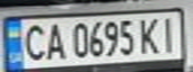0: (66, 19, 90, 60)
5: (118, 16, 139, 56)
6: (87, 18, 106, 57)
9: (103, 18, 121, 57)
A: (42, 20, 69, 61)
C: (18, 20, 48, 62)
I: (157, 14, 181, 53)
K: (136, 15, 163, 54)
